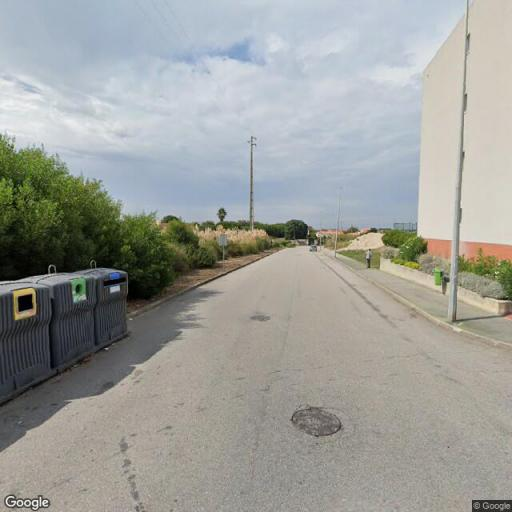mono_10: (246, 130, 258, 228)
